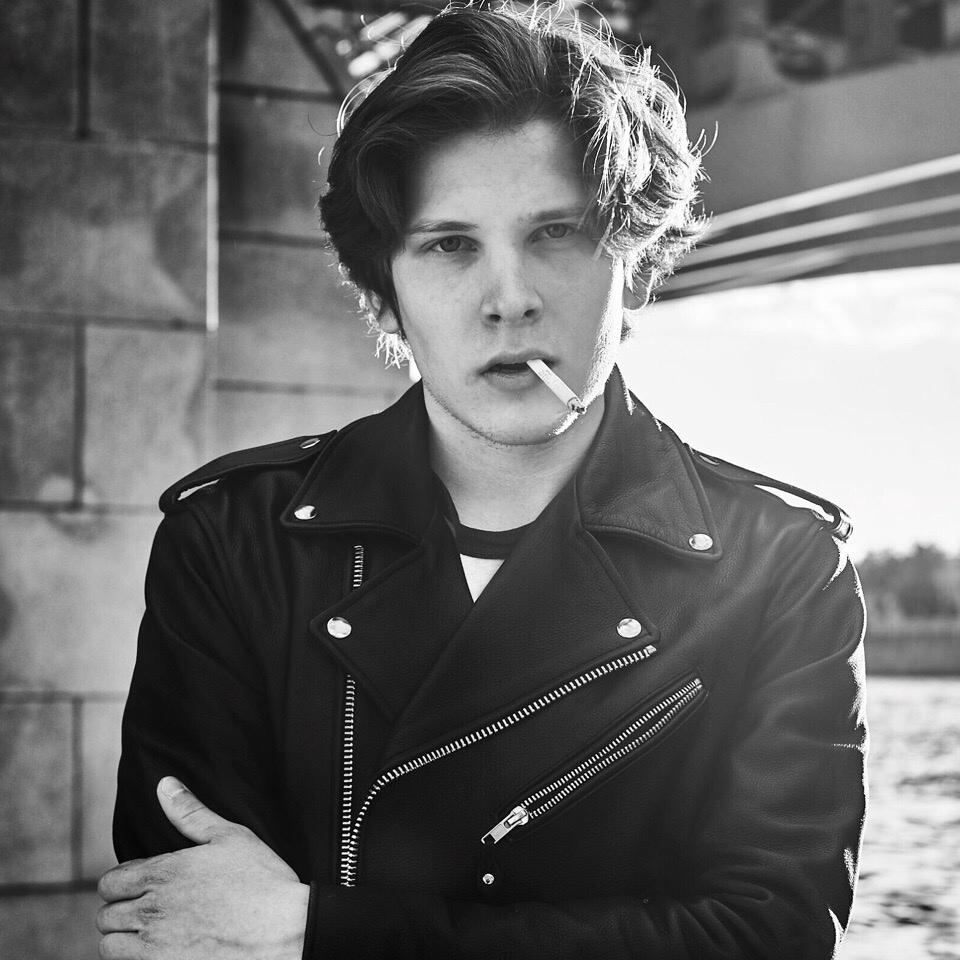cigarette: (527, 358, 587, 415)
